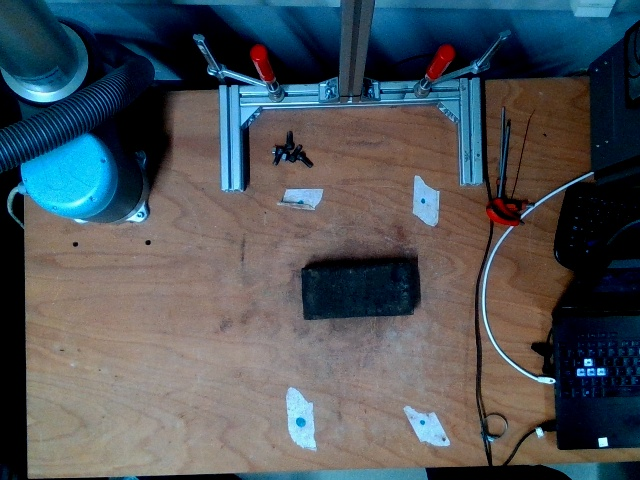brick: (302, 263, 414, 318)
